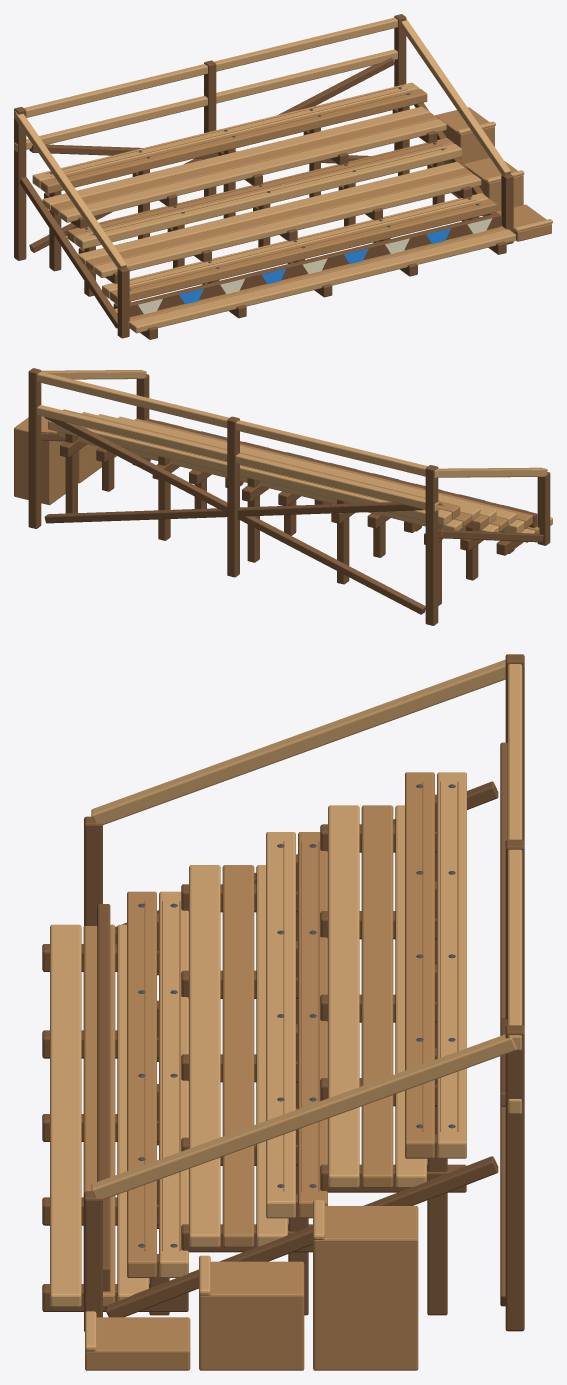
File: wooden-bleachers.glb
3 renders of one model, top to bottom at view 1: azimuth 30°, elevation 25°; view 2: azimuth 150°, elevation 25°; view 3: azimuth 270°, elevation 25°, orthographic. The views are drawn at different scales.
Parts seen in each view (by area): view 1: WoodenBleachers; view 2: WoodenBleachers; view 3: WoodenBleachers.
Part boxes in pixels (<box>): WoodenBleachers: <box>14,14,552,339</box>; WoodenBleachers: <box>14,368,552,625</box>; WoodenBleachers: <box>42,654,524,1370</box>.
Bounding box in the file's own units: 6.82 × 2.26 × 3.3.
